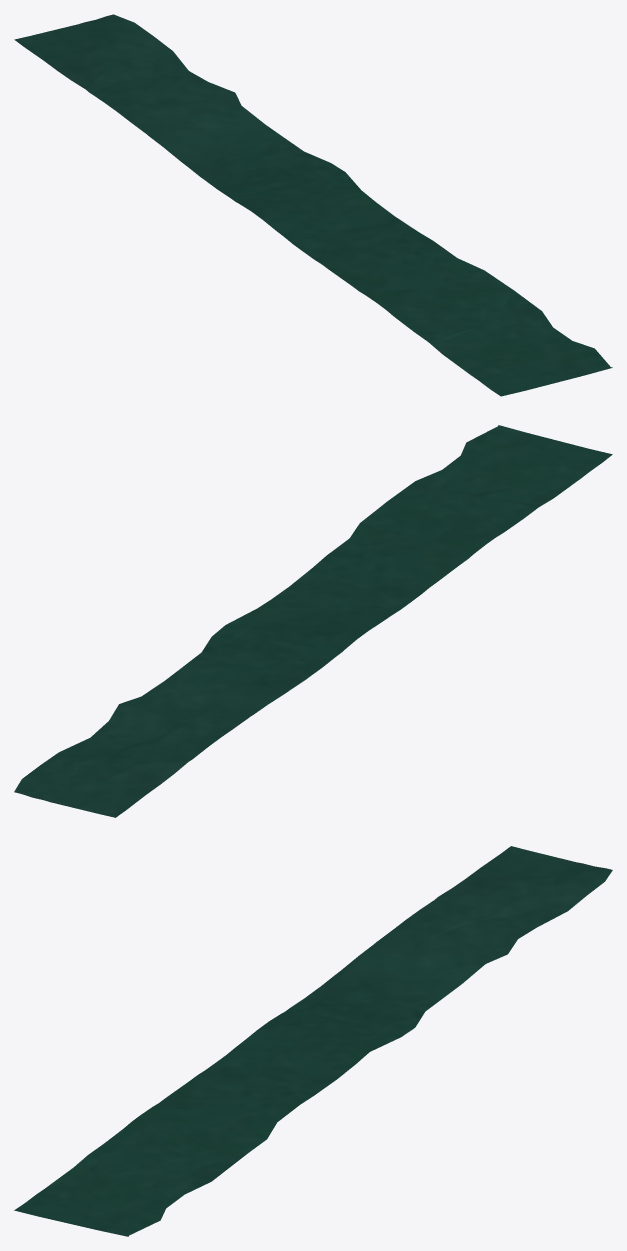
The picture shows the model from 3 angles, top to bottom: view 1: azimuth 30°, elevation 25°; view 2: azimuth 150°, elevation 25°; view 3: azimuth 330°, elevation 25°; orthographic projection. The views are drawn at different scales.
Size of the model in its own units: 14.7 by 0.6475 by 104.
1 material, 1 textured.
